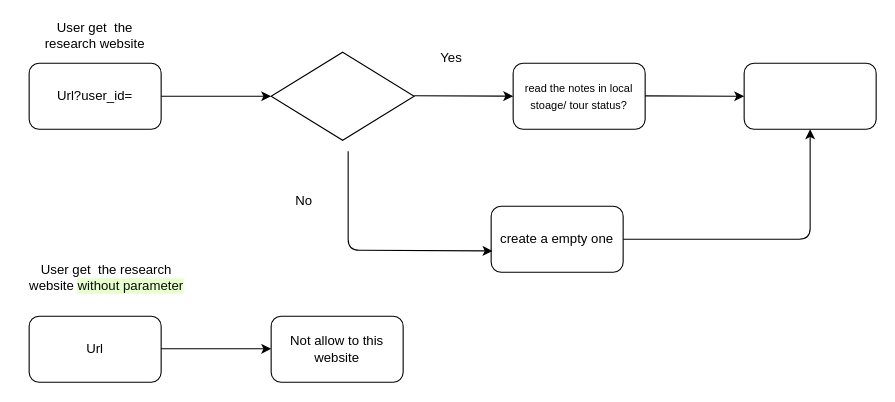
Some shapes in this 895 by 402 pixel diagram are drawn without their labels. Here are the shapes that lost their labels. From the top down, the box of each, then its label:
(270, 51, 414, 140): whether the user_id has local storage?
(743, 62, 876, 129): call backend_api to get initial message
